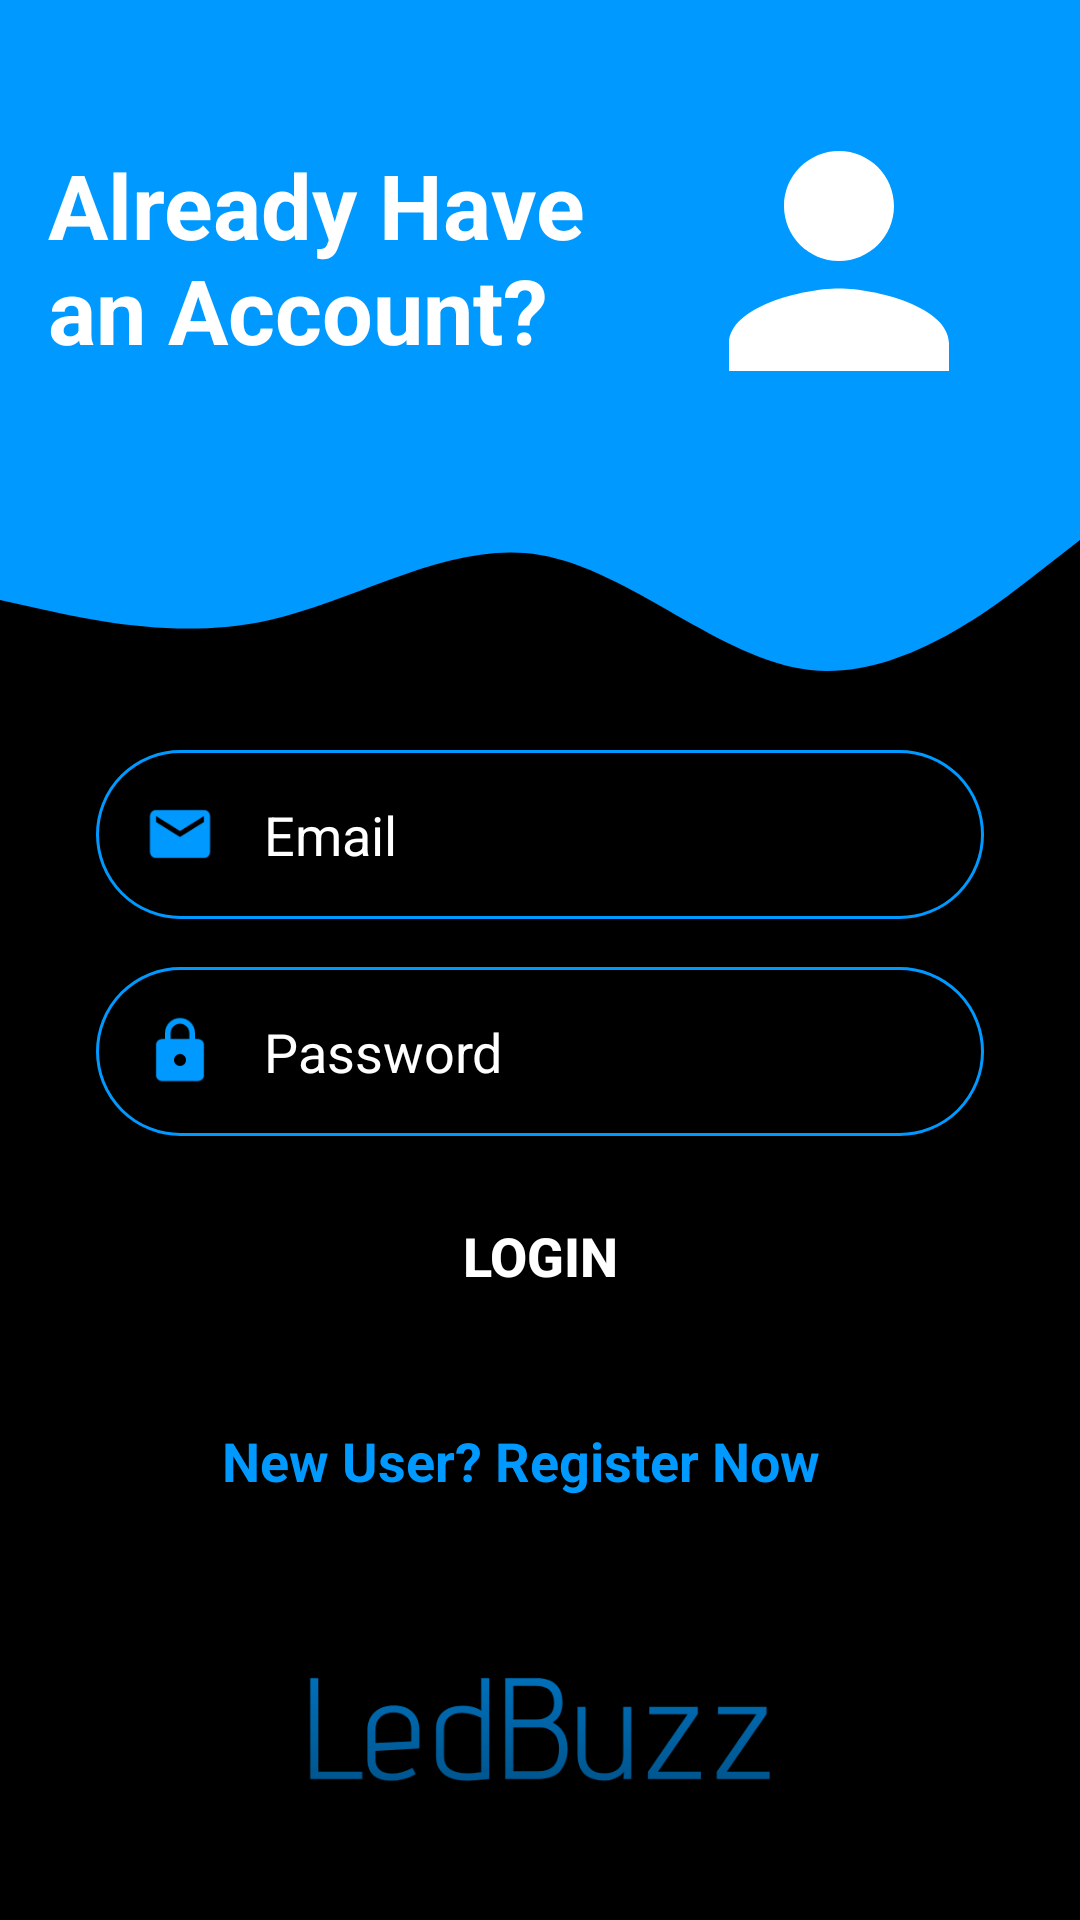

Icons on this 1080px×1920px Android screen, each with its box as (x1, y1, x2, y2):
person: (729, 151, 949, 371)
